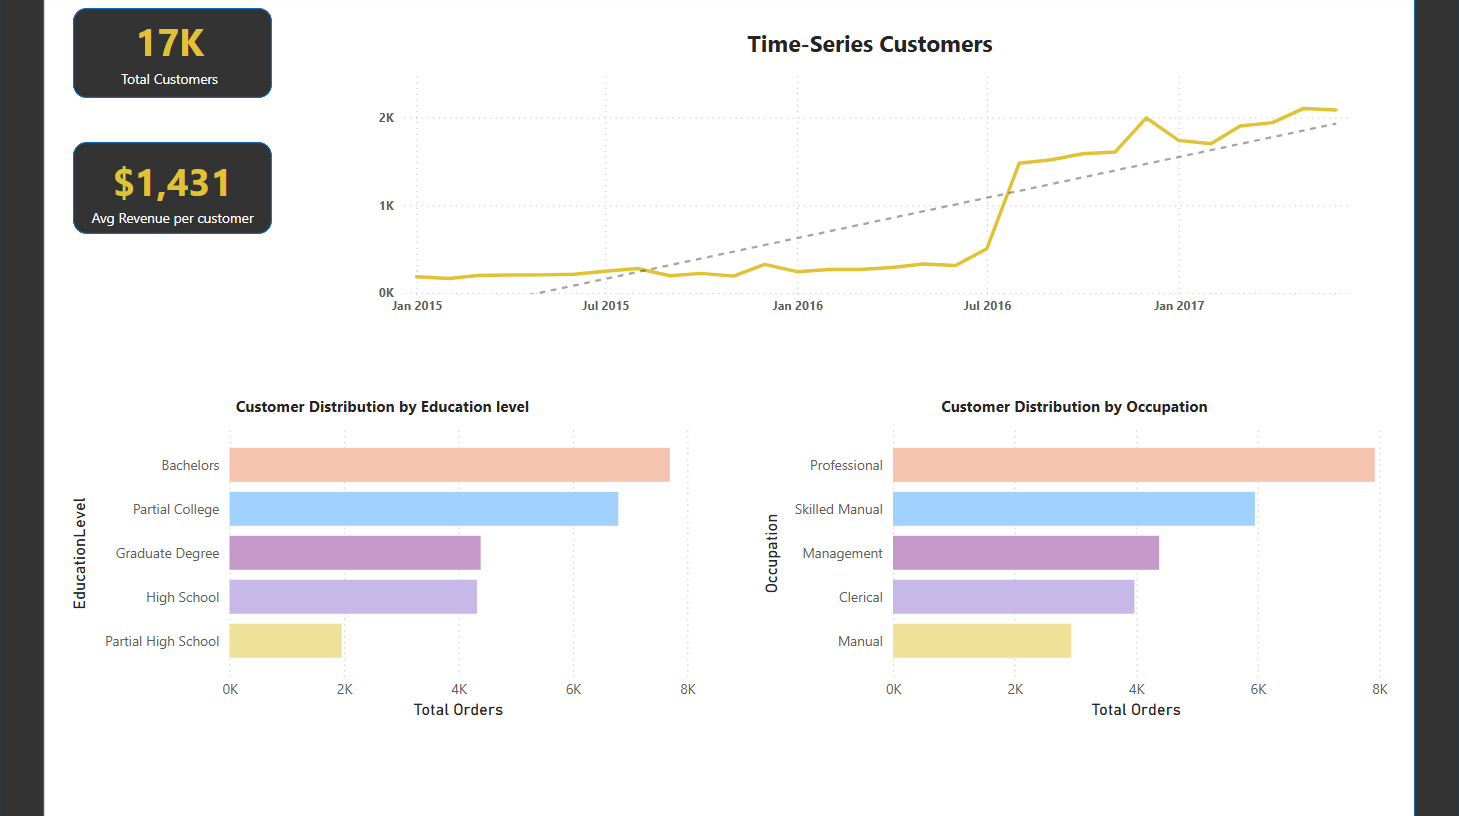

This screenshot's page, from the dashboard's own definition file:
{"tool":"powerbi","page":{"name":"Customer Info","canvas":[1280,720],"ordinal":1},"visuals":[{"type":"shape","box":[64.8,10.5,174.3,78.8],"z":0},{"type":"shape","box":[64.8,127.9,174.3,80.6],"z":1000},{"type":"card","fields":{"Values":["Measure Table.Total Customers"]},"box":[64.8,10.5,169.1,75.3],"z":2000},{"type":"card","fields":{"Values":["Measure Table.Avg Revenue per customer"]},"box":[67.4,132.3,169.1,76.2],"z":3000},{"type":"lineChart","title":"Time-Series Customers","fields":{"Y":["Measure Table.Total Customers"],"Category":["Calendar.Start of Month.Variation.Date Hierarchy.Year","Calendar.Start of Month.Variation.Date Hierarchy.Quarter","Calendar.Start of Month.Variation.Date Hierarchy.Month","Calendar.Start of Month.Variation.Date Hierarchy.Day"]},"box":[326.7,27.2,872.4,261.9],"z":4000},{"type":"shape","box":[0,0,39.5,720.4],"z":5000},{"type":"shape","box":[1239.4,0,40.3,720],"z":6000},{"type":"barChart","title":"Customer Distribution by Education level","fields":{"Category":["Customers.EducationLevel"],"Y":["Measure Table.Total Orders"]},"box":[57.2,350.4,557.9,287.7],"z":7000},{"type":"barChart","title":"Customer Distribution by Occupation","fields":{"Category":["Customers.Occupation"],"Y":["Measure Table.Total Orders"]},"box":[663.1,350.4,557.9,287.7],"z":8000}]}

Visuals, with their boxes in screenshot pixels (x1, y1, x2, y2), scaled from the page's 1280x720 canvas onto the 1459x816 screenshot:
shape: x1=74 y1=12 x2=273 y2=101
shape: x1=74 y1=145 x2=273 y2=236
card - Measure Table.Total Customers: x1=74 y1=12 x2=267 y2=97
card - Measure Table.Avg Revenue per customer: x1=77 y1=150 x2=270 y2=236
"Time-Series Customers" lineChart: x1=372 y1=31 x2=1367 y2=328
shape: x1=0 y1=0 x2=45 y2=815
shape: x1=1413 y1=0 x2=1458 y2=815
"Customer Distribution by Education level" barChart: x1=65 y1=397 x2=701 y2=723
"Customer Distribution by Occupation" barChart: x1=756 y1=397 x2=1392 y2=723
